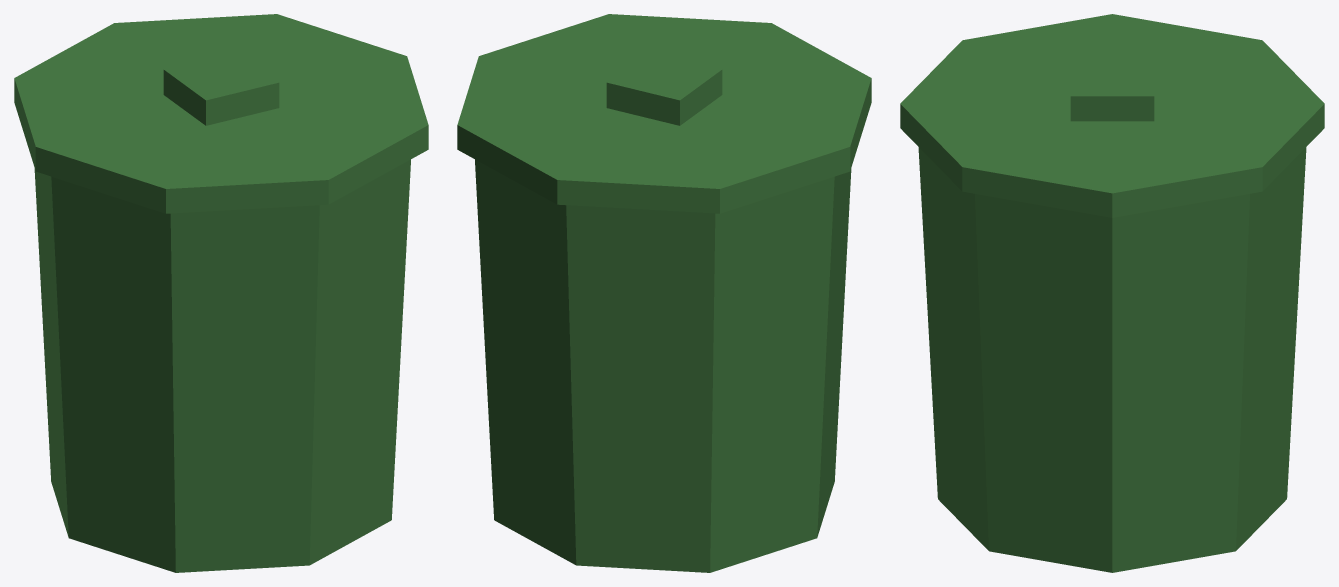
Rendered from trashcan.fbx.
3 views of the same model, side by side, from view 1: azimuth 30°, elevation 25°; view 2: azimuth 150°, elevation 25°; view 3: azimuth 270°, elevation 25° (orthographic).
Parts seen in each view (by area): view 1: Cylinder.001; view 2: Cylinder.001; view 3: Cylinder.001.
Boxes of the visible parts, x1=… form: Cylinder.001: x1=14, y1=14, x2=428, y2=572; Cylinder.001: x1=457, y1=14, x2=871, y2=572; Cylinder.001: x1=900, y1=14, x2=1324, y2=572.
Size of the model in its own units: 101 by 111 by 101.
